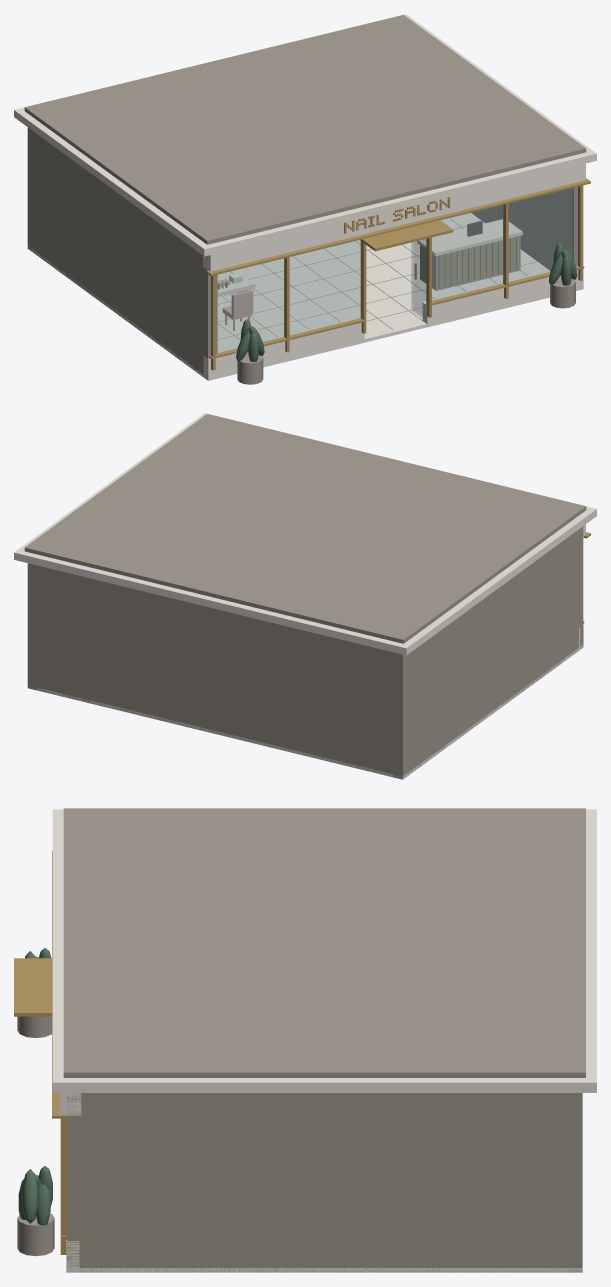
The picture shows the model from 3 angles, top to bottom: view 1: azimuth 30°, elevation 25°; view 2: azimuth 150°, elevation 25°; view 3: azimuth 270°, elevation 25°; orthographic projection. The views are drawn at different scales.
Parts seen in each view (by area): view 1: Lustre: grey, Lustre: white, Lustre: glass, Lustre: brass, Lustre: leaf, Lustre: blush; view 2: Lustre: grey, Lustre: white; view 3: Lustre: grey, Lustre: white, Lustre: brass, Lustre: leaf.
Part boxes in pixels (box(x1,y1,x2,y2)): Lustre: grey: box(24, 15, 586, 384); Lustre: white: box(14, 14, 596, 380); Lustre: glass: box(218, 188, 573, 352); Lustre: brass: box(206, 178, 590, 370); Lustre: leaf: box(236, 243, 577, 361); Lustre: blush: box(217, 279, 253, 319); Lustre: grey: box(24, 414, 586, 778); Lustre: white: box(14, 413, 596, 779); Lustre: grey: box(17, 808, 585, 1272); Lustre: white: box(52, 809, 596, 1272); Lustre: brass: box(14, 851, 66, 1254); Lustre: leaf: box(18, 948, 52, 1225).
Bounding box in the file's own units: 12.55 × 4.31 × 11.3.
